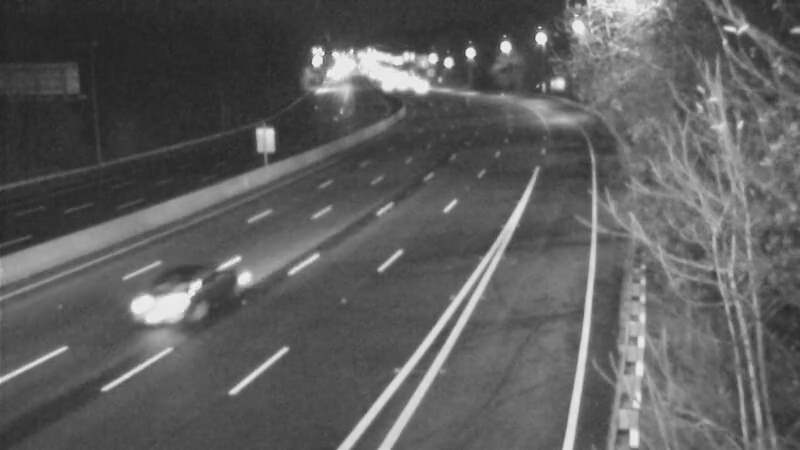vehicle: (106, 249, 216, 359)
